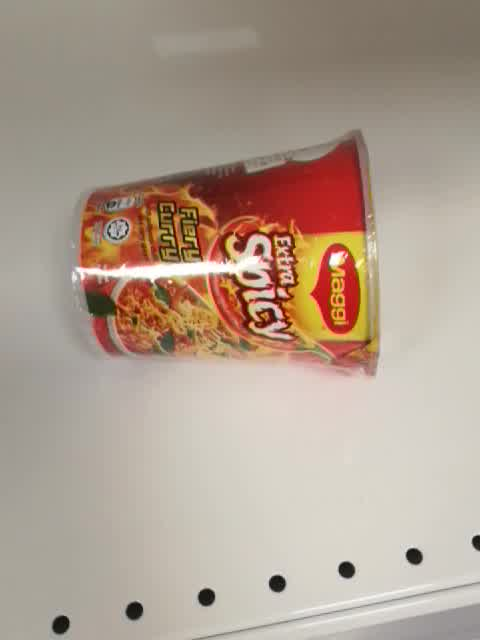maggi: (68, 124, 381, 379)
